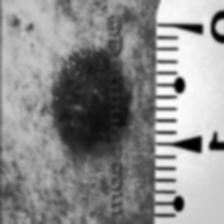Potentially Malignant Skin Tumors: (55, 54, 133, 152)
